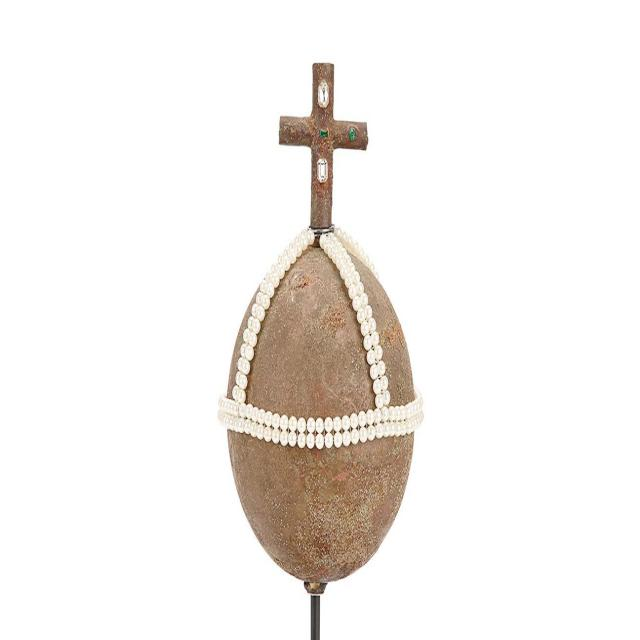grenade: (218, 66, 422, 601)
